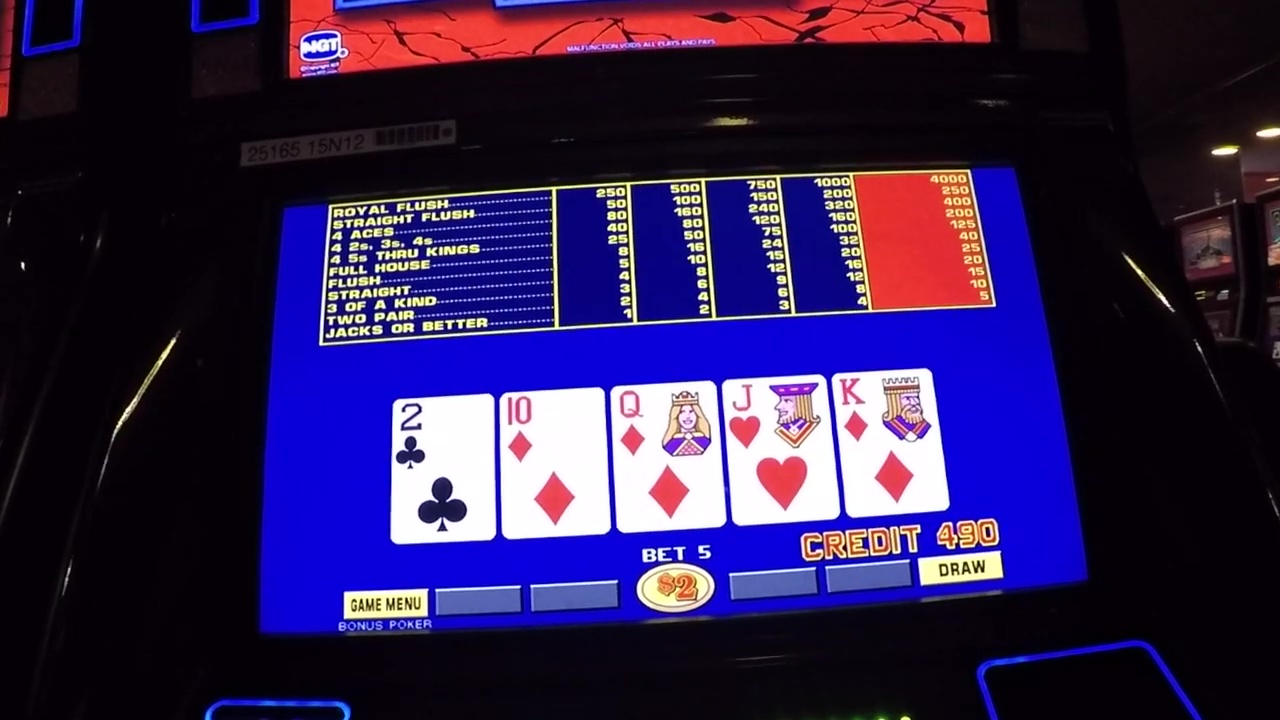C2: (394, 401, 492, 467)
DK: (841, 374, 933, 449)
DQ: (614, 388, 713, 461)
DT: (504, 394, 602, 466)
HJ: (727, 380, 826, 461)
